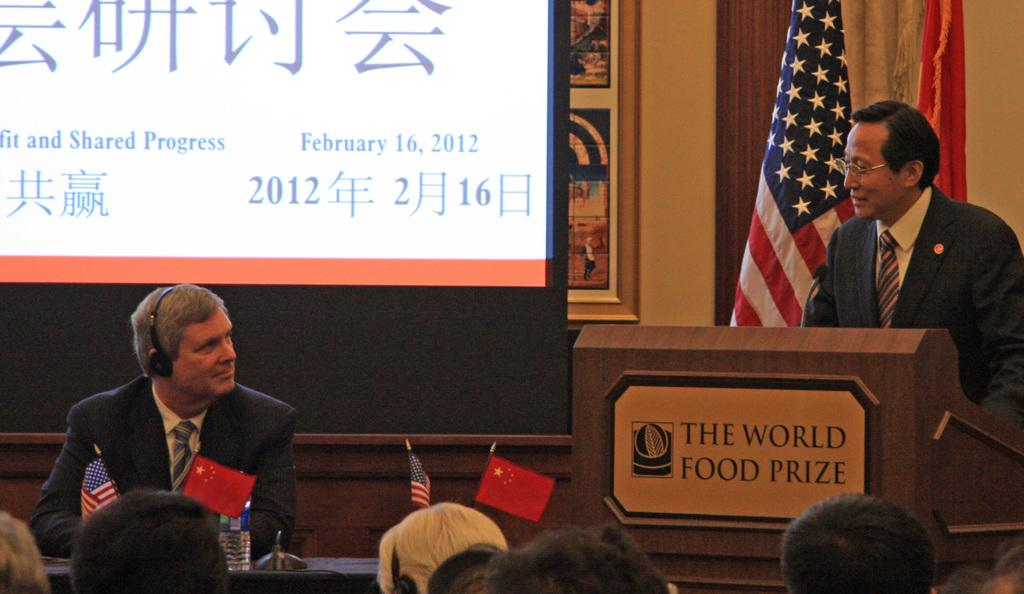Sem Máscara: (839, 121, 910, 218), (168, 301, 234, 398)
